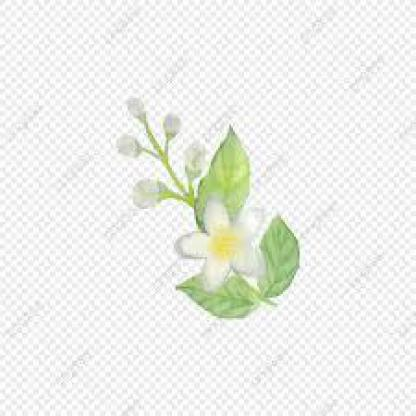Melati: (56, 84, 321, 347)
